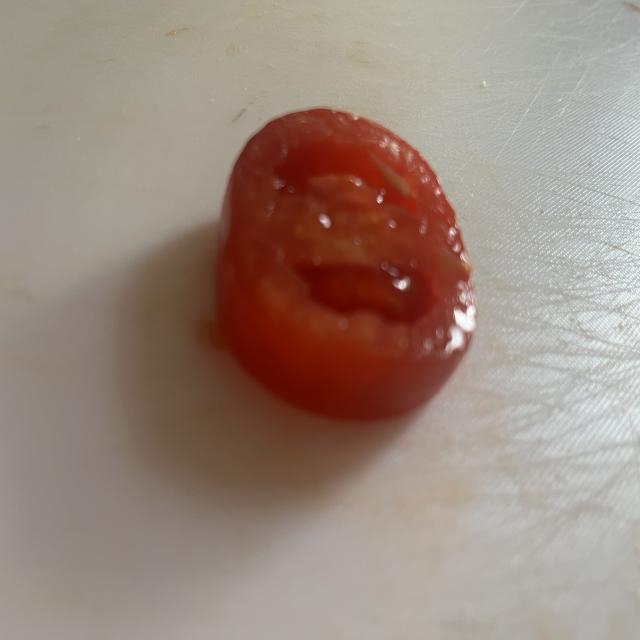sliced_tomato: (218, 109, 475, 418)
